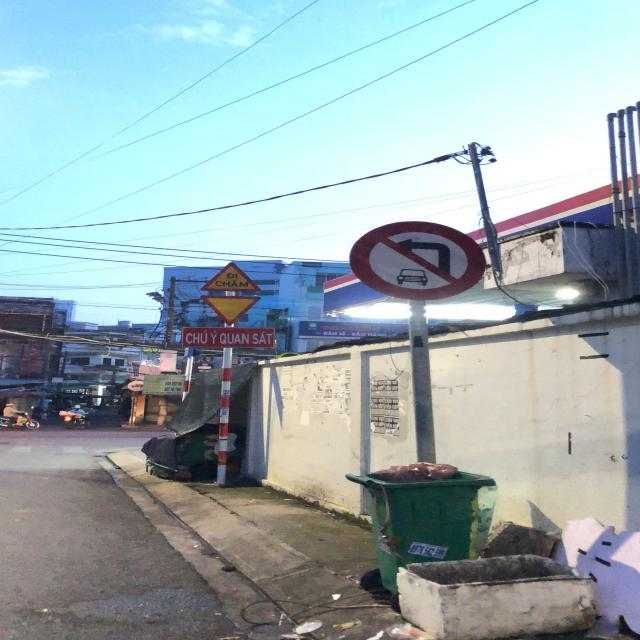Bien bao cam xe o to re trai: (350, 221, 488, 298)
Bien bao di cham: (198, 259, 272, 296)
Bien bao giao nhau voi duong uu tien: (197, 294, 262, 325)
